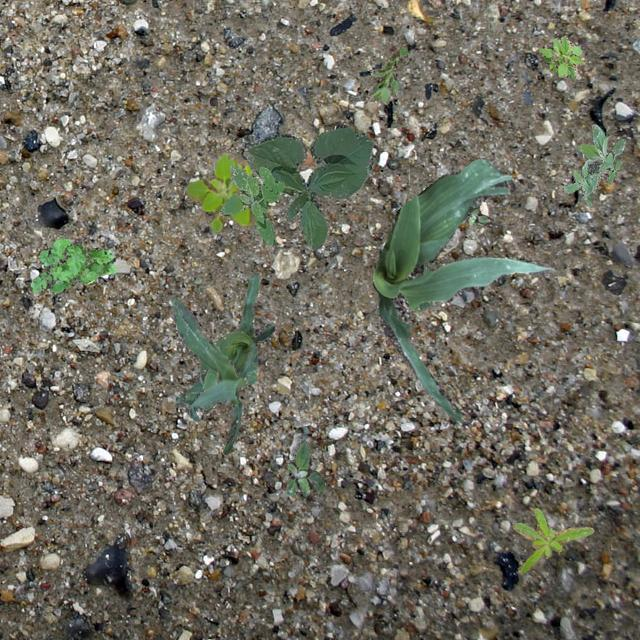crop: (372, 156, 554, 422), (242, 124, 372, 248), (174, 272, 274, 412), (172, 297, 256, 453)
weed: (218, 163, 284, 244), (512, 507, 592, 572), (186, 152, 252, 230), (30, 236, 114, 296), (562, 124, 624, 205), (366, 46, 406, 104), (284, 440, 324, 496), (538, 36, 584, 78), (460, 206, 490, 224)
